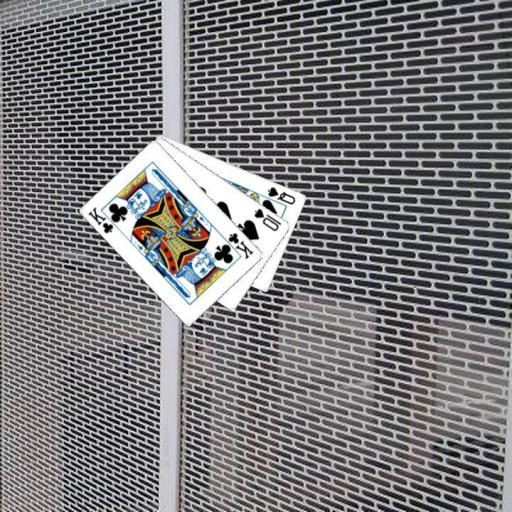10S: (251, 205, 283, 232)
KC: (85, 204, 122, 235), (219, 230, 255, 261)
QS: (265, 184, 297, 207)
